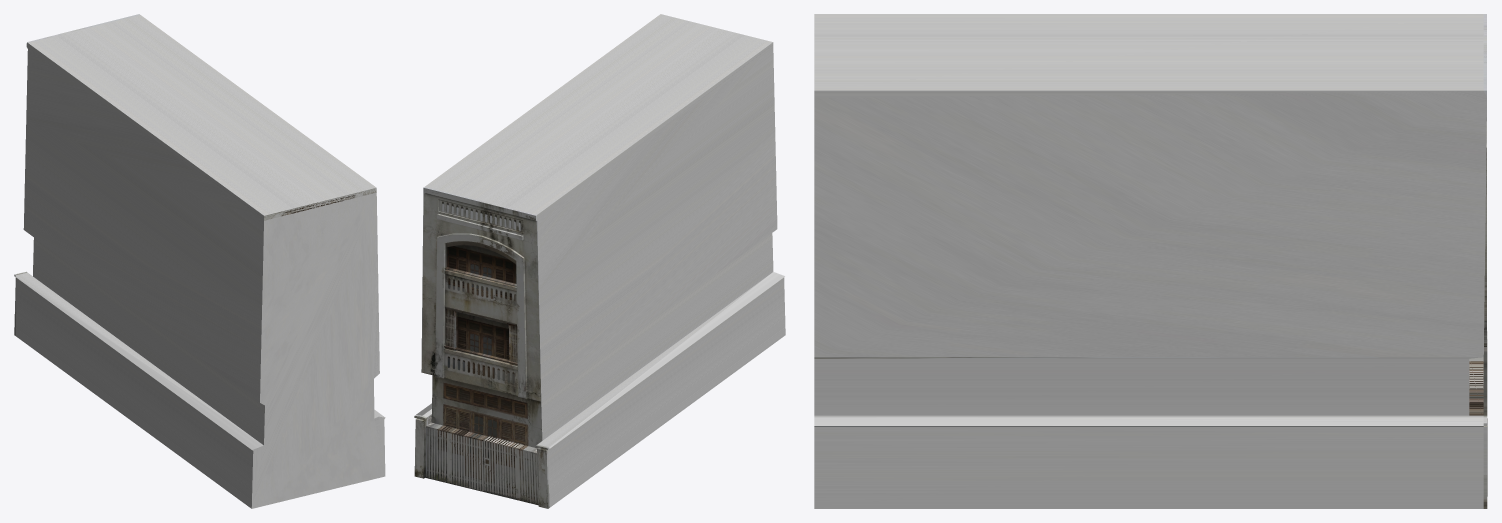
The model's file is RefHouse7.fbx.
3 views of the same model, side by side, from view 1: azimuth 30°, elevation 25°; view 2: azimuth 150°, elevation 25°; view 3: azimuth 270°, elevation 25° (orthographic). The views are drawn at different scales.
Visible parts, largest first — view 1: ReferenceHouse7; view 2: ReferenceHouse7; view 3: ReferenceHouse7.
Boxes of the visible parts, x1=… form: ReferenceHouse7: x1=14, y1=14, x2=385, y2=508; ReferenceHouse7: x1=414, y1=14, x2=785, y2=508; ReferenceHouse7: x1=814, y1=14, x2=1487, y2=508.
Size of the model in its own units: 550 by 1142 by 1689.
Materials: 2 (2 with a texture image).
